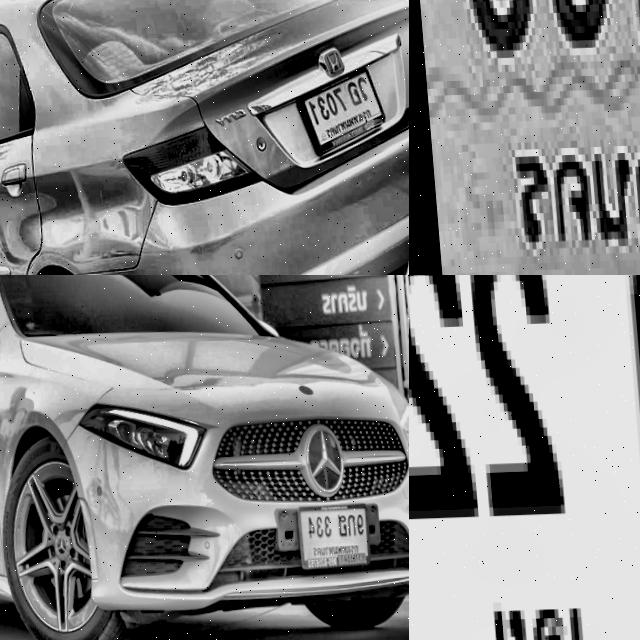license-plate: (409, 275, 640, 640), (409, 0, 640, 275), (288, 63, 386, 164), (290, 508, 365, 572)
